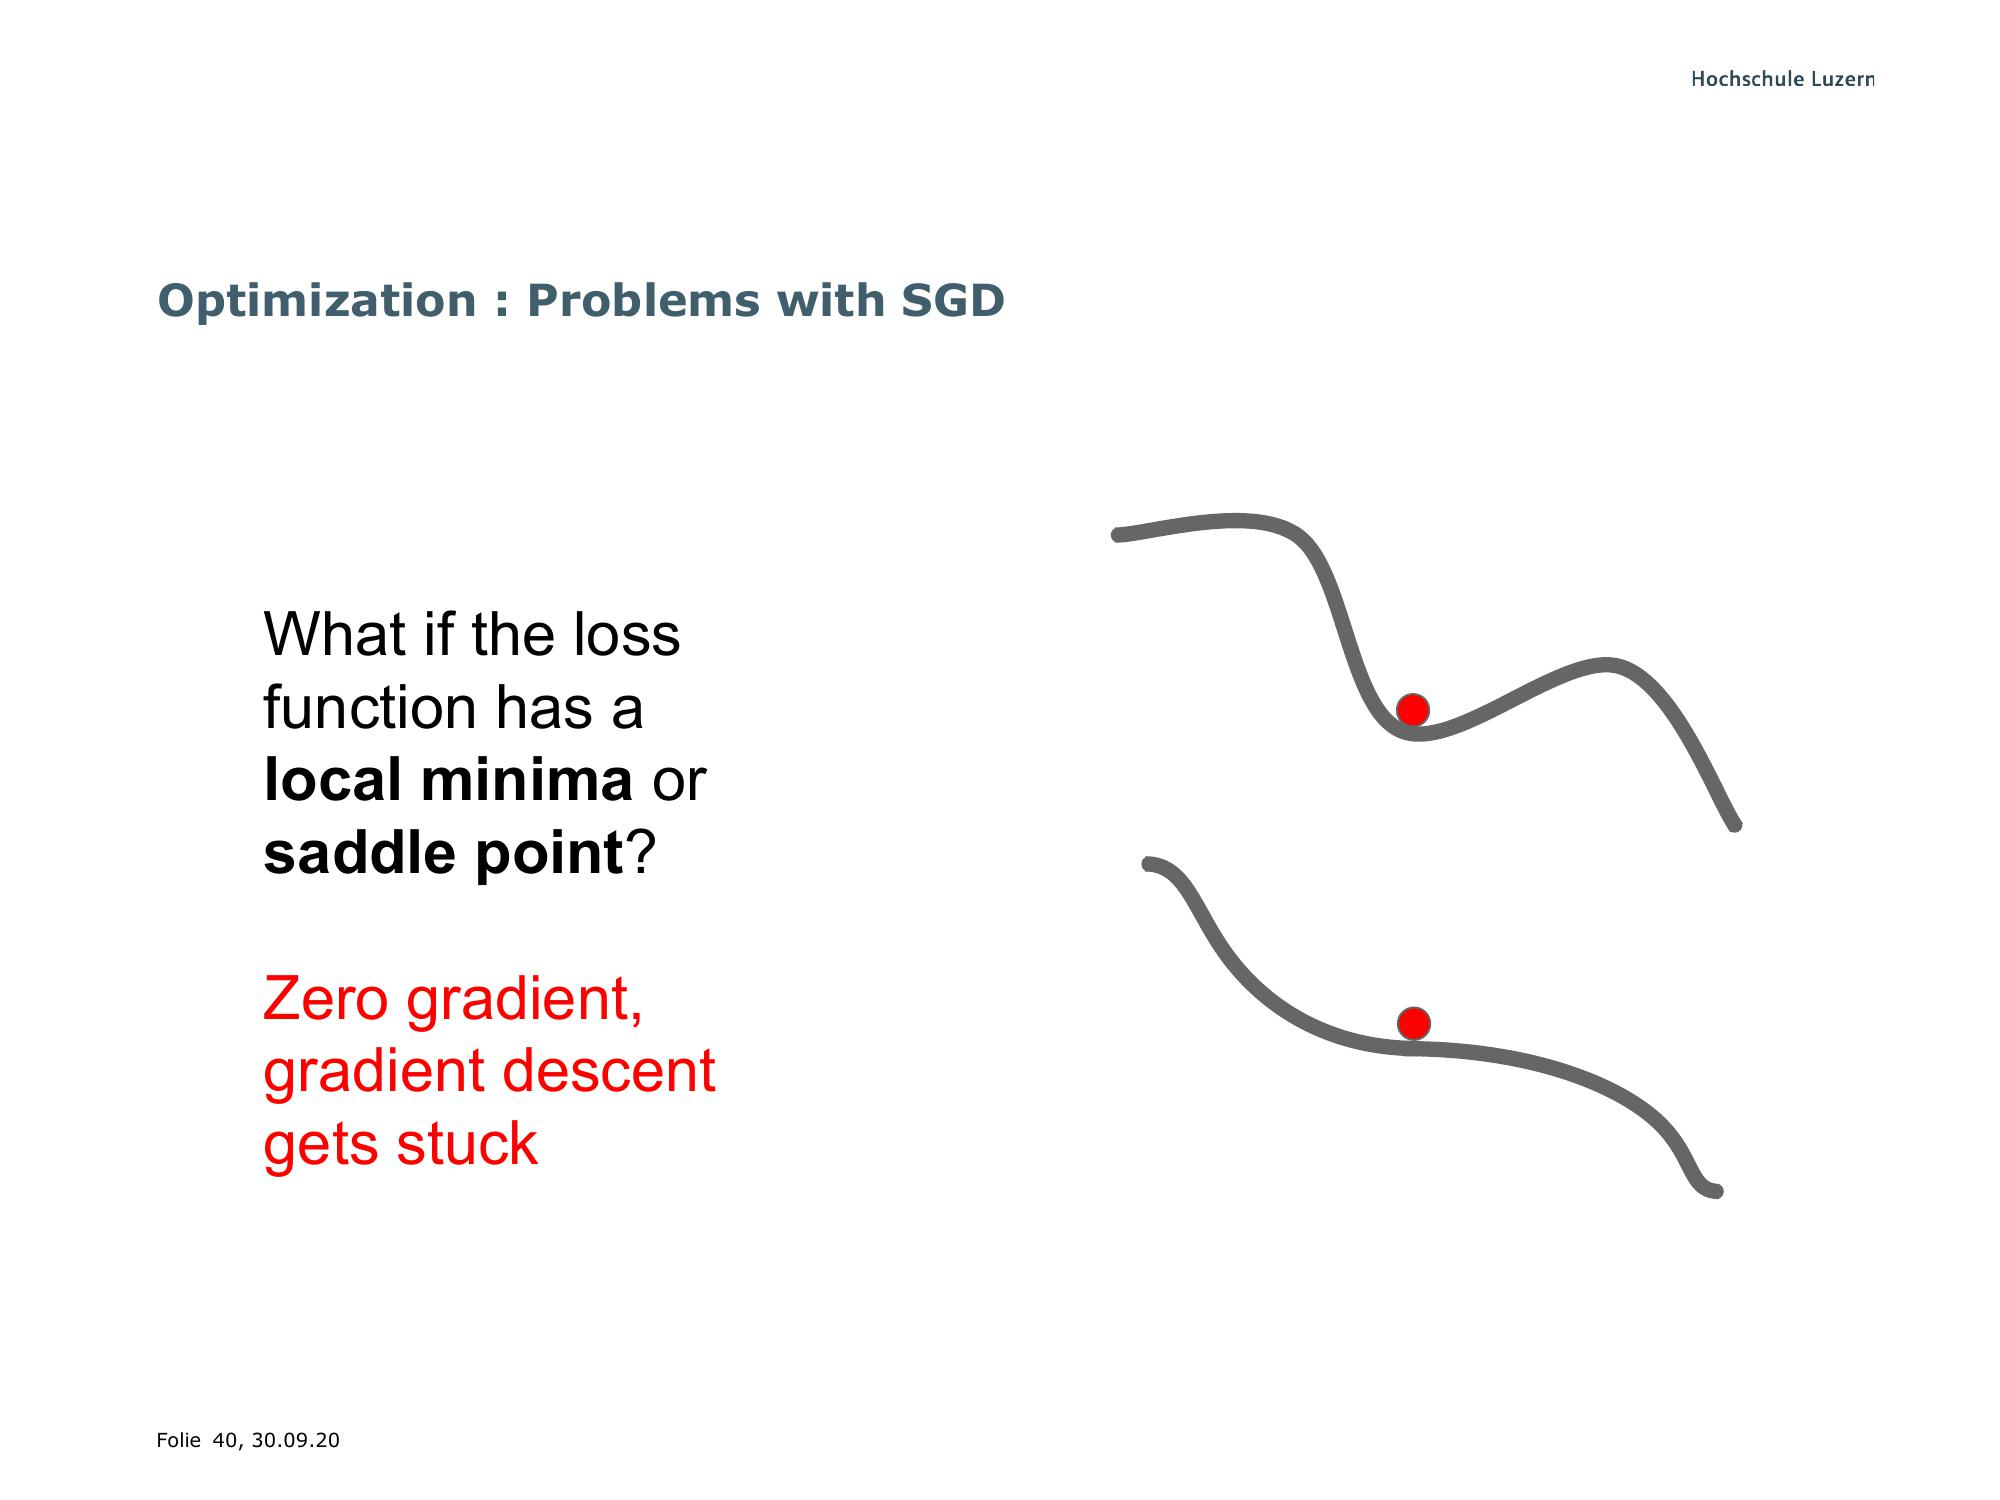Title: (135, 265, 1011, 328)
